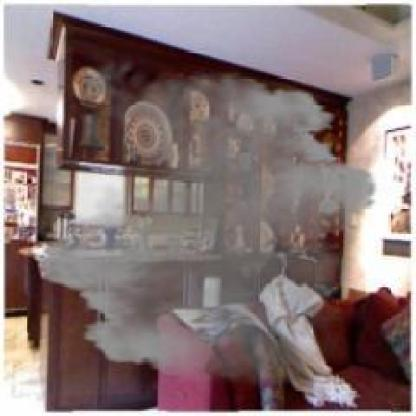Smoke: (29, 48, 388, 396)
